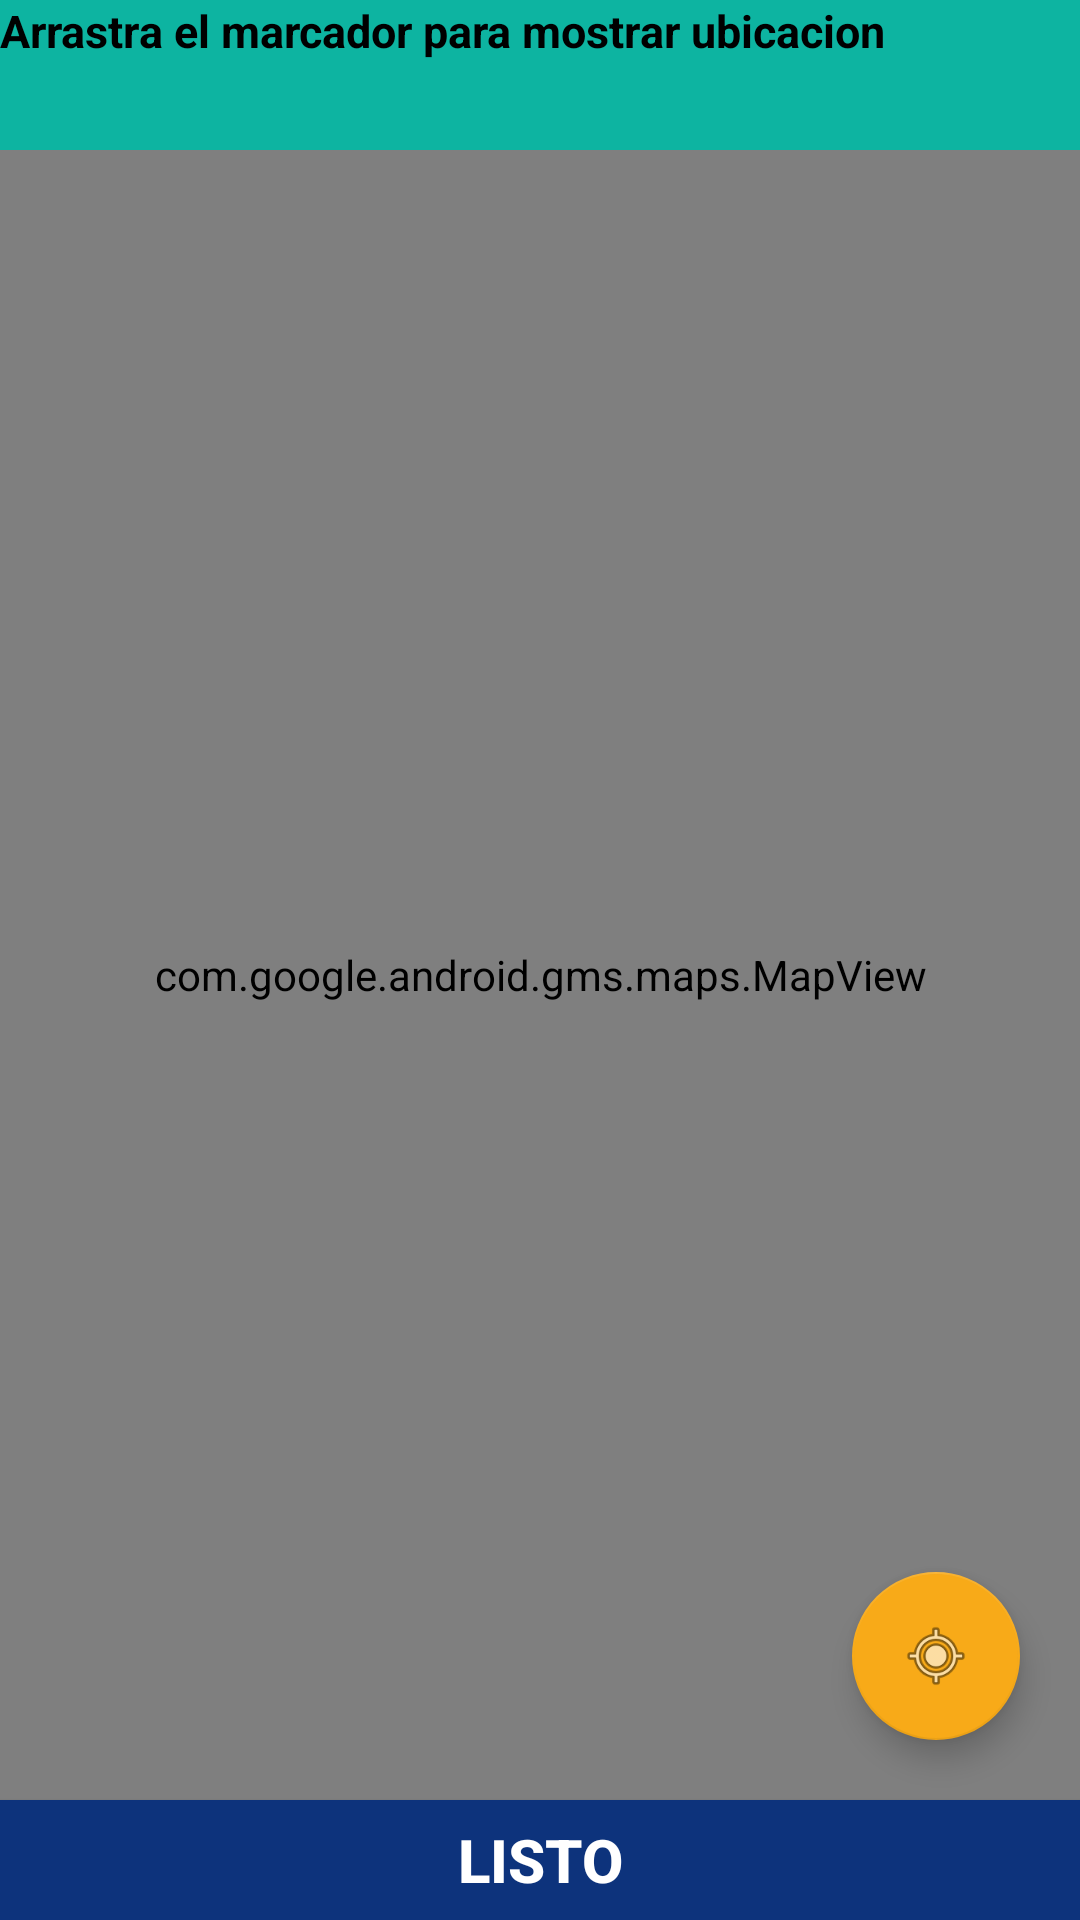

Icons on this 1080 × 1920 Android screen, each with its box as [x1,y1,x2,y2]:
mylocation: [852,1572,1020,1740]
